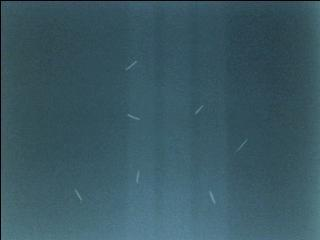scratch: (71, 185, 87, 205), (232, 137, 249, 155), (122, 57, 139, 73), (124, 111, 142, 122), (192, 103, 205, 117), (207, 188, 217, 206), (133, 167, 142, 185)
